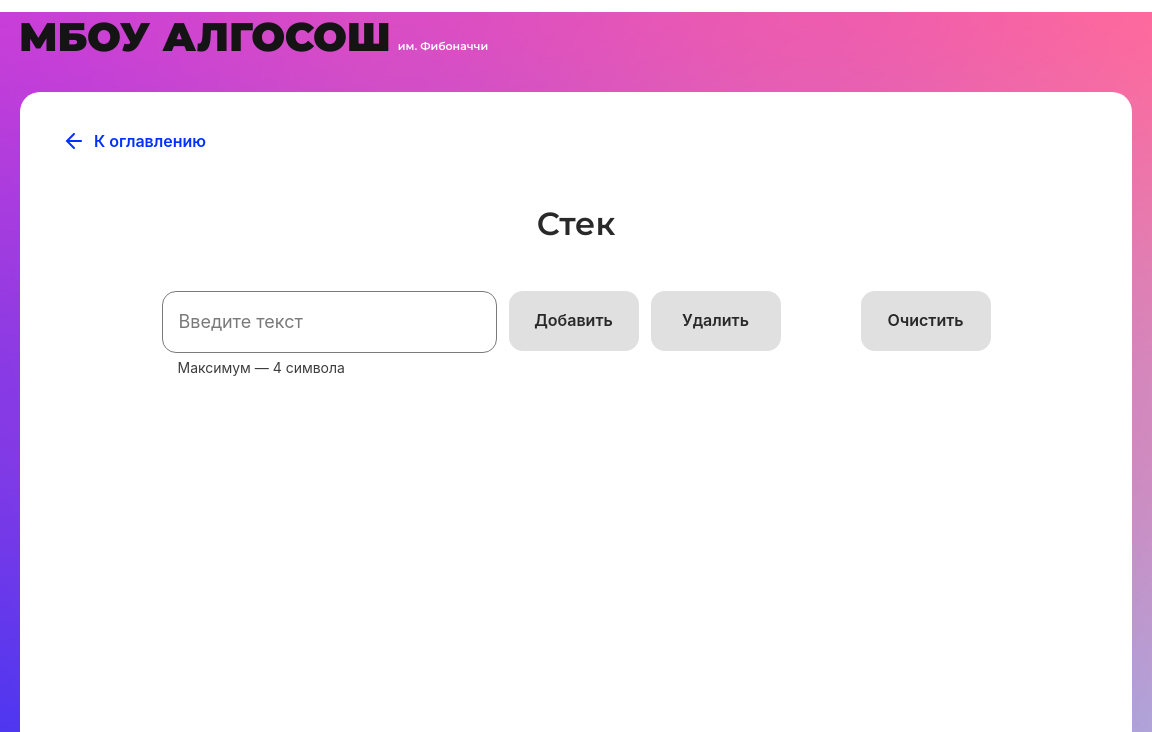
Test: Stack component testing › should check removing an element from the stack correctly
Type "5" into the field with placeholder "Введите текст" at (330, 322), box x1=162 y1=291 x2=497 y2=353
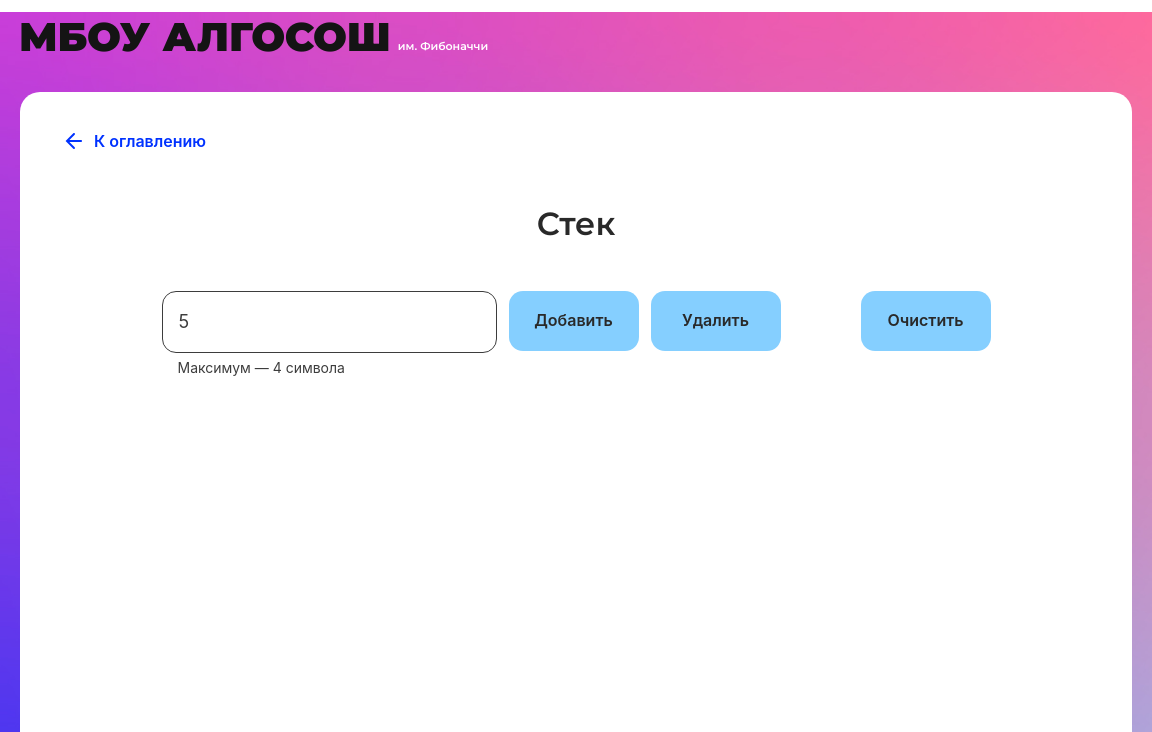
Click the button with test id "add-button" at (574, 321), box x1=509 y1=291 x2=639 y2=351
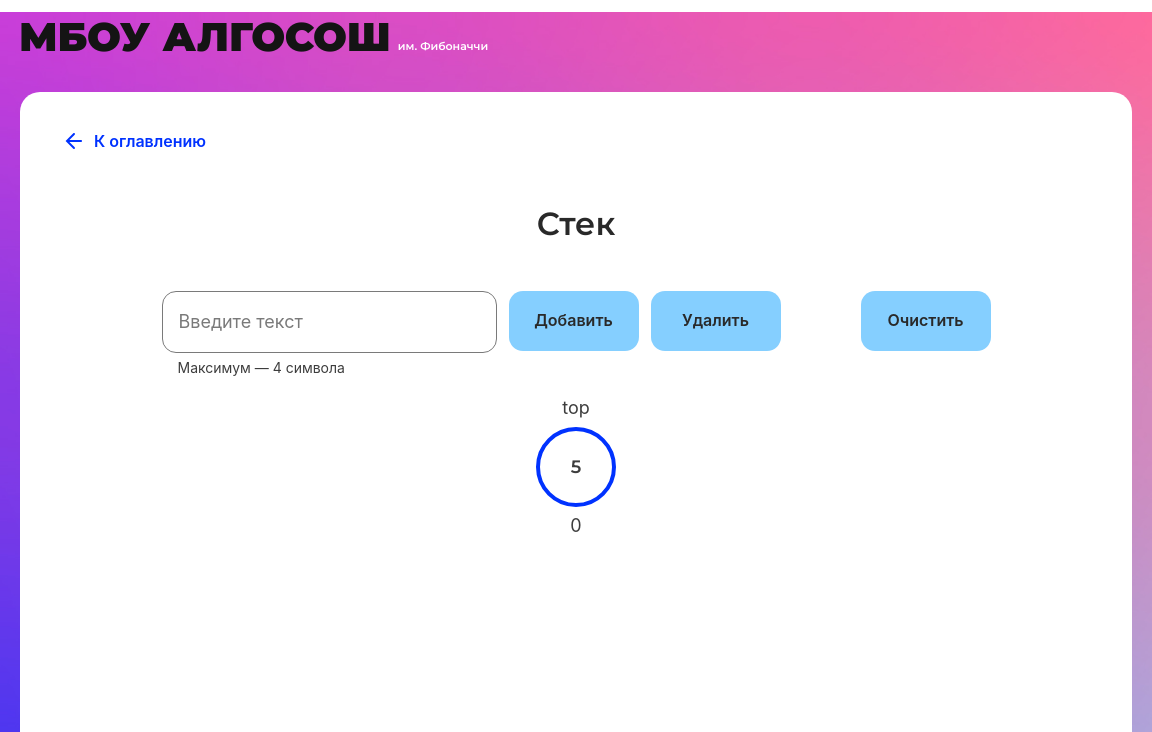
Now the text with test id "circle-0" reads "5", box x1=571 y1=456 x2=582 y2=478
Click the button with test id "remove-button" at (716, 321), box x1=651 y1=291 x2=781 y2=351
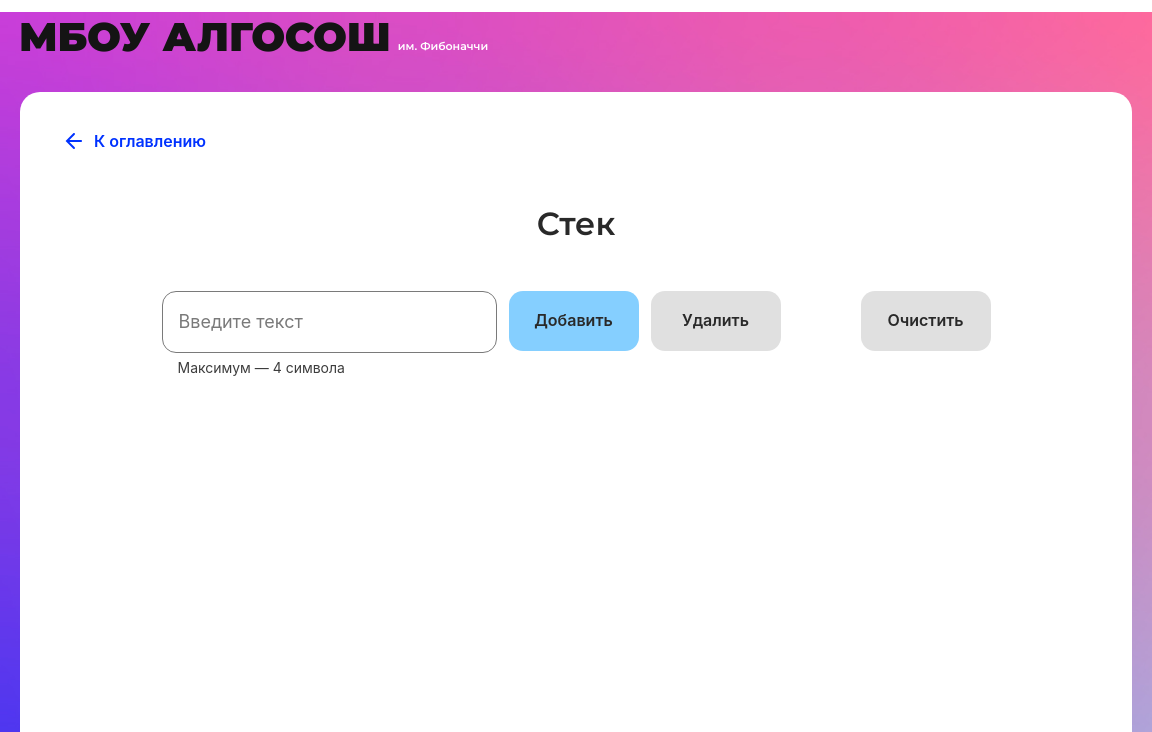
Now the element with test id "circle-0" is gone
